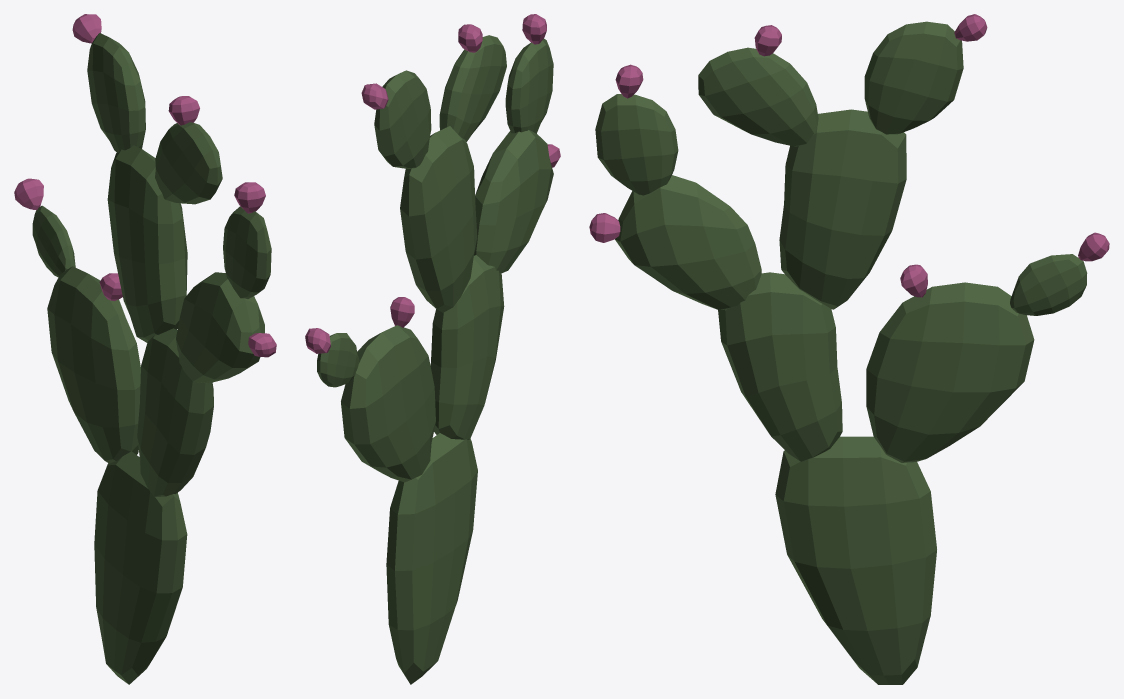
The model's file is Cactus_4.glb.
3 views of the same model, side by side, from view 1: azimuth 30°, elevation 25°; view 2: azimuth 150°, elevation 25°; view 3: azimuth 270°, elevation 25° (orthographic). The views are drawn at different scales.
Parts seen in each view (by area): view 1: Cactus; view 2: Cactus; view 3: Cactus.
Part boxes in pixels (box(x1,y1,x2,y2)): Cactus: box(14, 14, 276, 684); Cactus: box(305, 14, 560, 684); Cactus: box(589, 14, 1109, 684).
Size of the model in its own units: 0.11 by 1.38 by 0.972.
